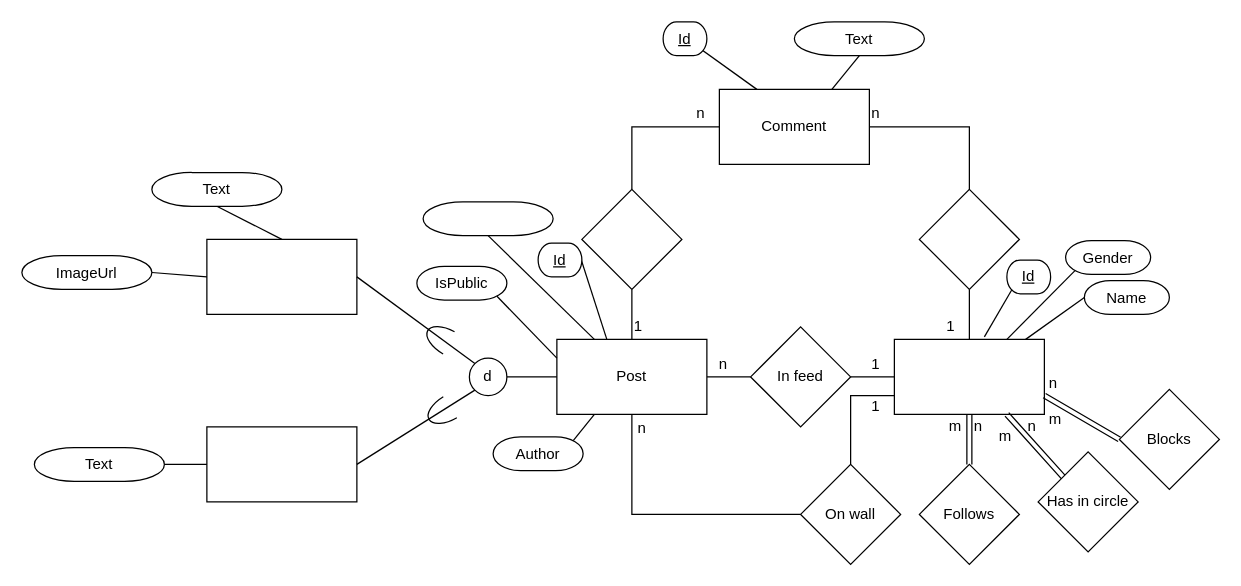
The diagram is 1241 pixels wide and 586 high, and some of its shapes have lost their labels. The shapes that lost their labels are listed below. From the top down, each one's box as (x1, y1, x2, y2) in pixels, then its label:
(422, 201, 553, 236): CreationDate
(581, 188, 682, 289): Has
(918, 188, 1019, 289): Written by
(206, 238, 357, 314): PicturePost
(893, 338, 1044, 414): User
(206, 426, 357, 502): TextPost
